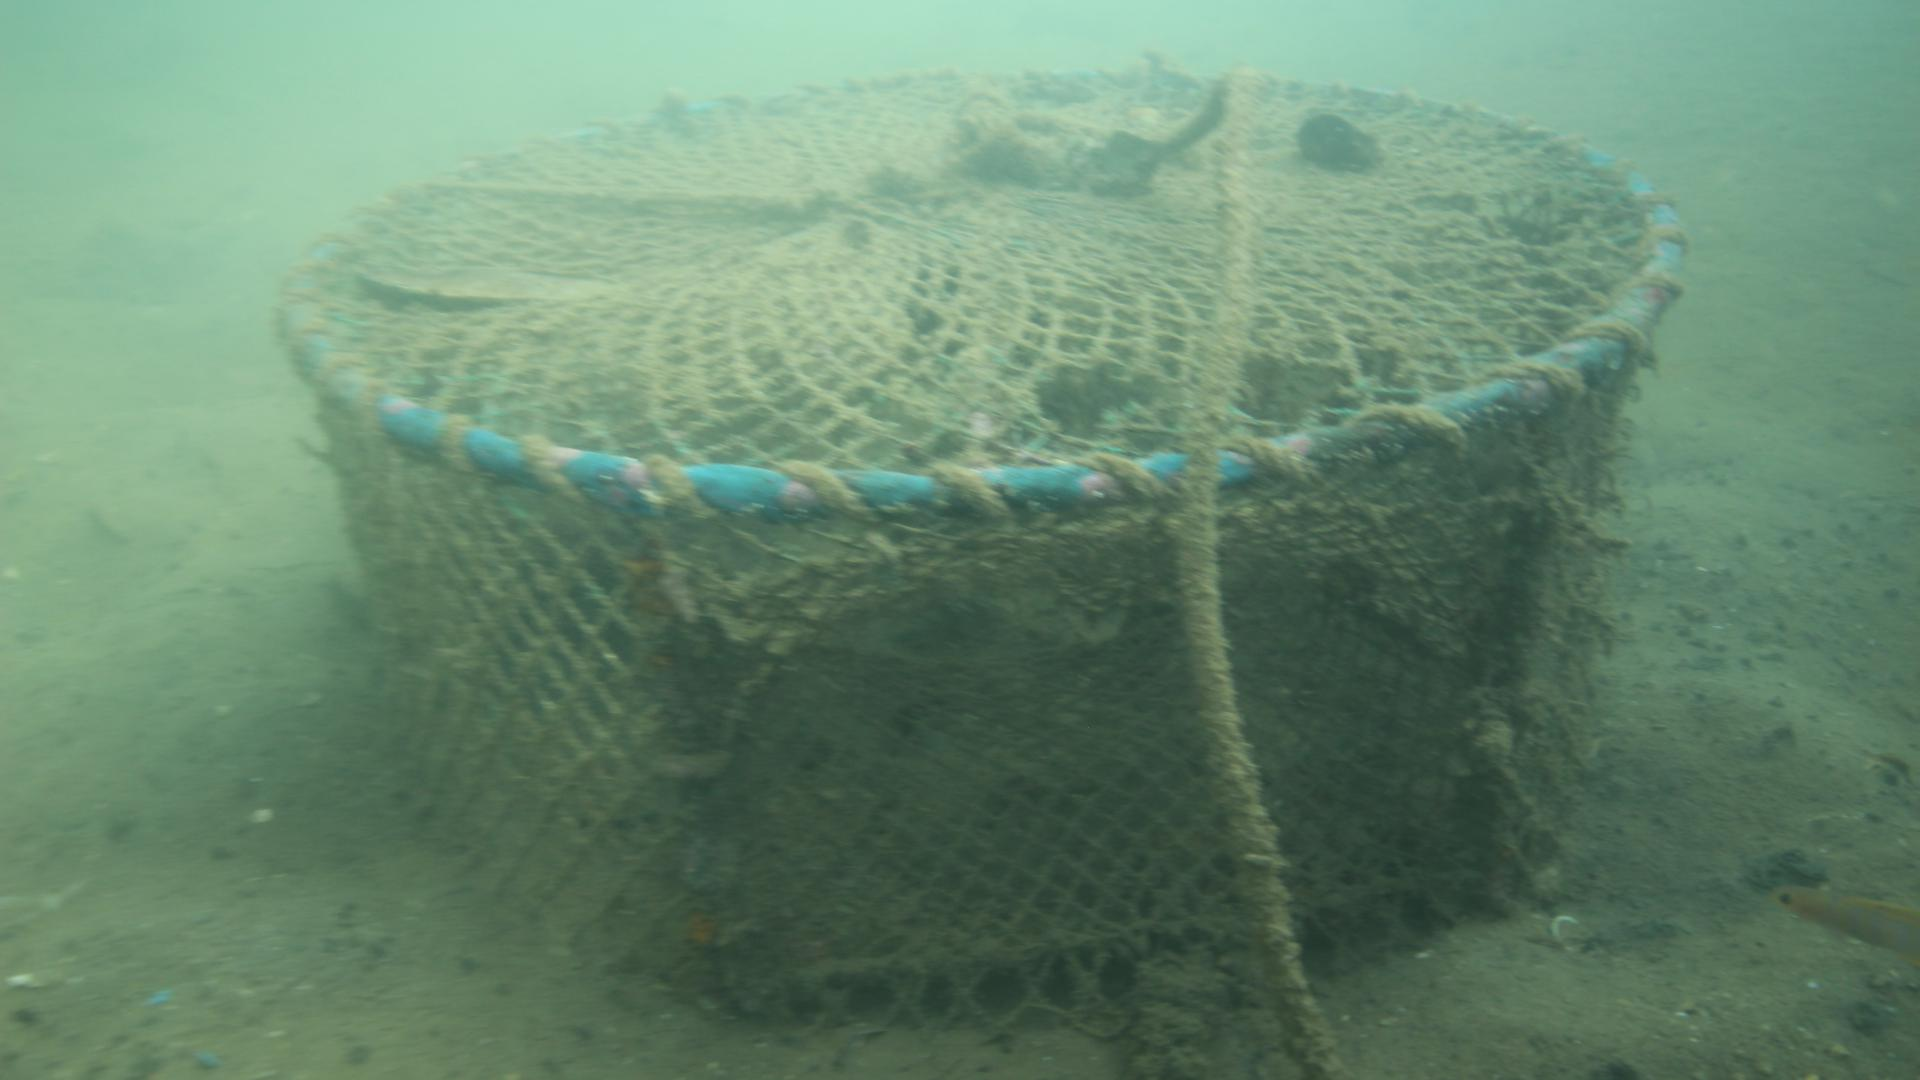circular fish trap: (268, 63, 1687, 1025)
